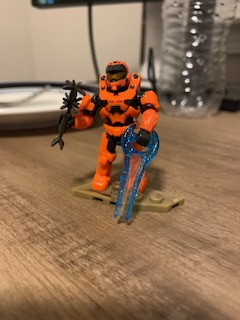spartan: (58, 60, 164, 194)
